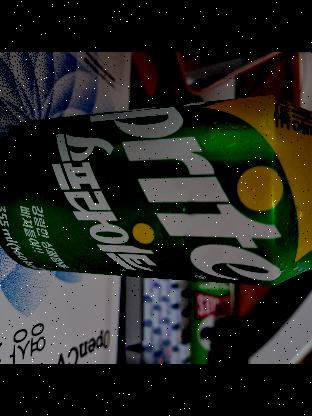Can: (0, 95, 312, 280)
